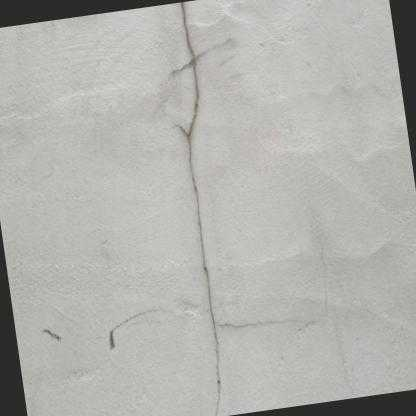crack: (175, 1, 223, 416)
